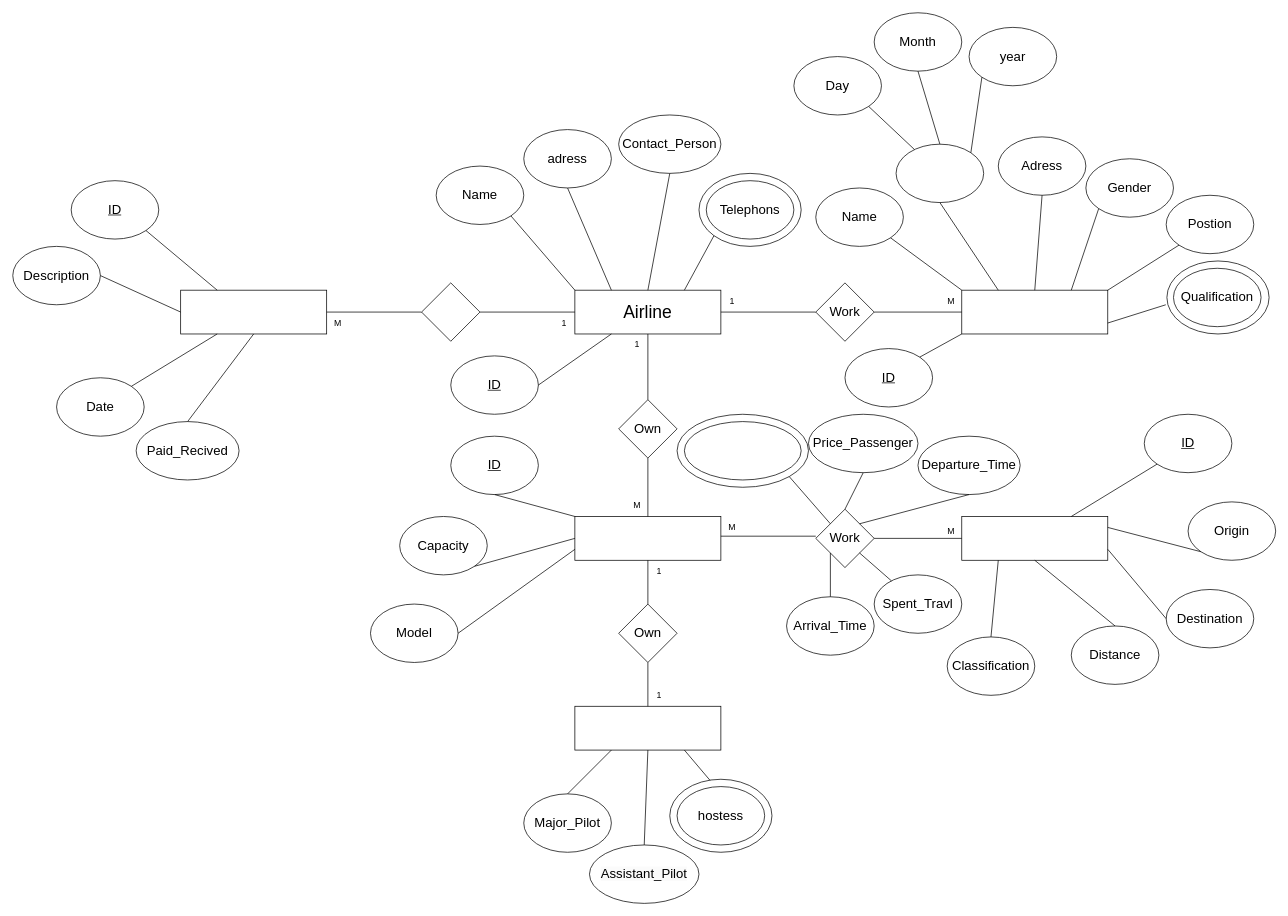
This 1288x916 diagram has some shape labels left out. Each missing label, with the centre of its shape:
"Aircrafts" goes at point (647, 538).
"Birth_Day" goes at point (939, 173).
"crew" goes at point (647, 728).
"Employees" goes at point (1034, 311).
"Num_Passengers" goes at point (742, 450).
"Routs" goes at point (1034, 538).
"Sell" goes at point (450, 311).
"Transactions" goes at point (253, 311).
